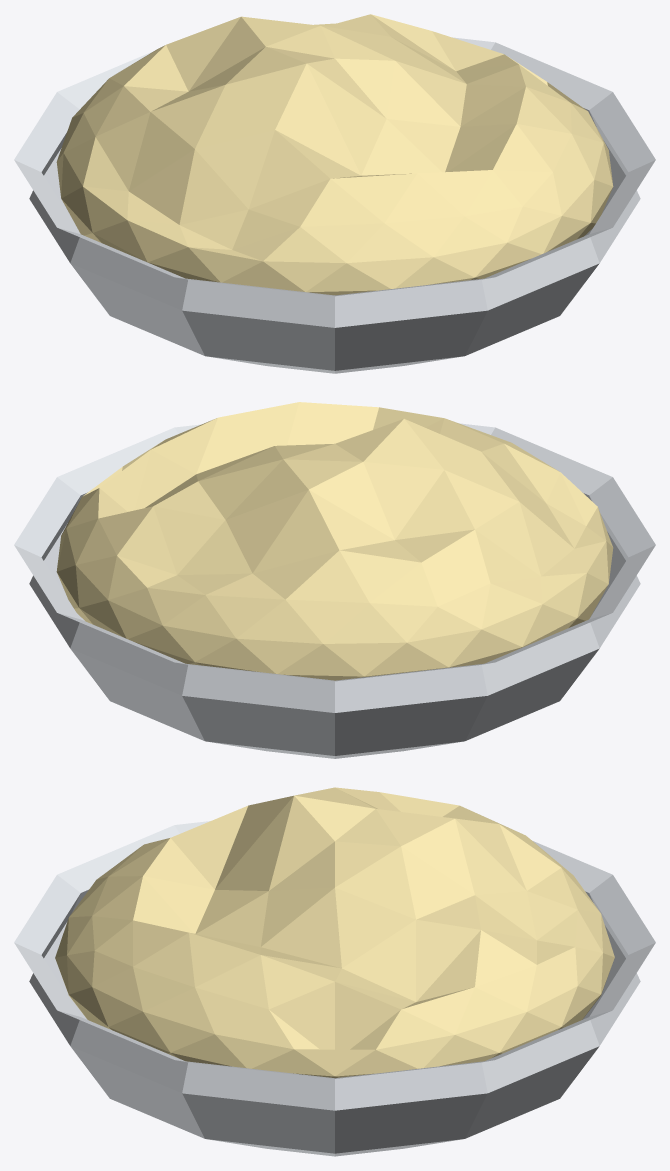
The model's file is mashed.fbx.
The picture shows the model from 3 angles, top to bottom: view 1: azimuth 30°, elevation 25°; view 2: azimuth 150°, elevation 25°; view 3: azimuth 270°, elevation 25°; orthographic projection.
Visible parts, largest first — view 1: MashedPotatoes, Bowl; view 2: MashedPotatoes, Bowl; view 3: MashedPotatoes, Bowl.
Part boxes in pixels (<box>): MashedPotatoes: <box>56,14,613,295</box>; Bowl: <box>14,37,655,373</box>; MashedPotatoes: <box>56,402,613,680</box>; Bowl: <box>14,423,655,758</box>; MashedPotatoes: <box>55,787,614,1078</box>; Bowl: <box>14,821,655,1156</box>.
Bounding box in the file's own units: 348 × 167 × 348.
